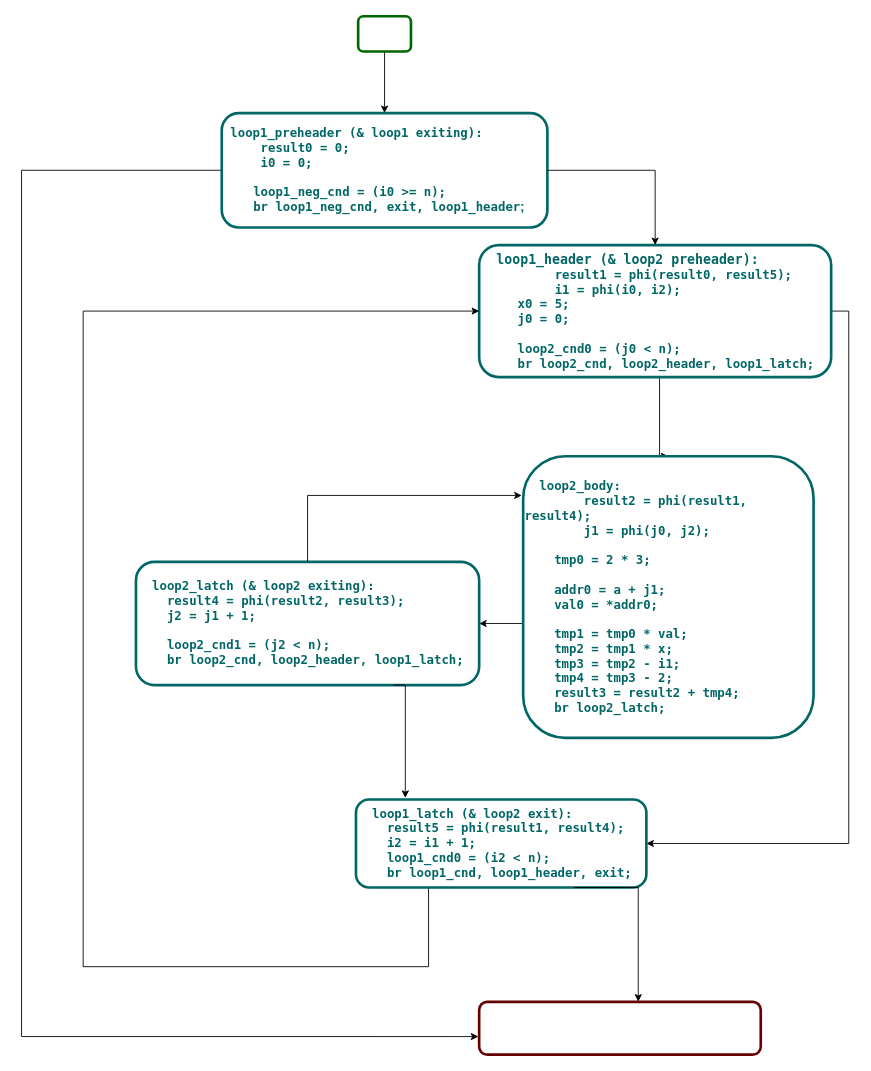
This 871x1071 diagram has some shape labels left out. The shapes that lost their labels are listed below. From the top down, each one's centre as x and y in pixels, then its label:
(384,33): entry
(619,1028): exit (& loop1 exit) : result6 = phi(result0, result5); return result6;
